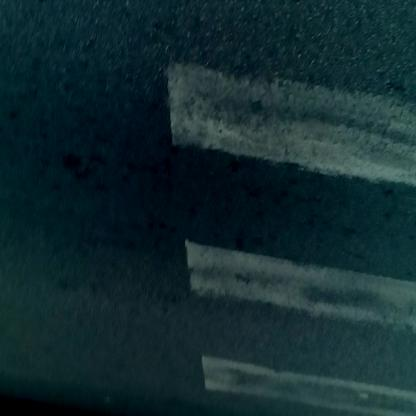crosswalk: (168, 2, 416, 399)
